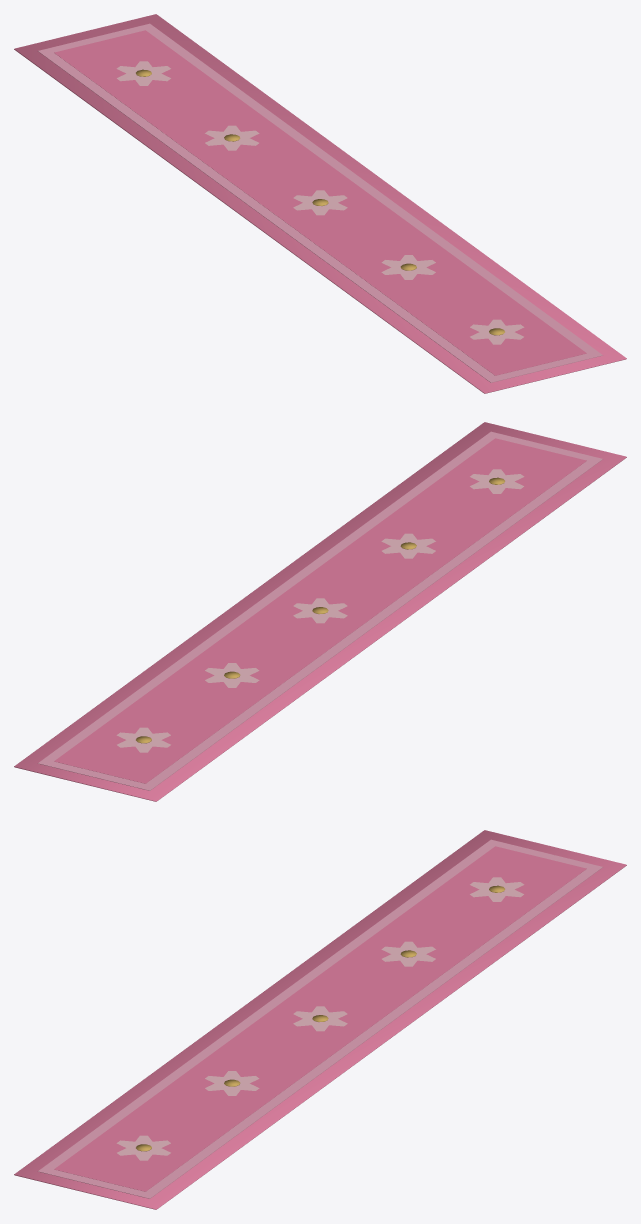
The model's file is rug_runner.glb.
3 views of the same model, one above another, from view 1: azimuth 30°, elevation 25°; view 2: azimuth 150°, elevation 25°; view 3: azimuth 330°, elevation 25° (orthographic).
Visible parts, largest first — view 1: rug_runner; view 2: rug_runner; view 3: rug_runner.
Boxes of the visible parts, x1=… form: rug_runner: x1=14, y1=14, x2=626, y2=393; rug_runner: x1=14, y1=422, x2=626, y2=801; rug_runner: x1=14, y1=830, x2=626, y2=1209.
Size of what is drawn, in the model's own units: 1.4 by 0.02 by 8.
